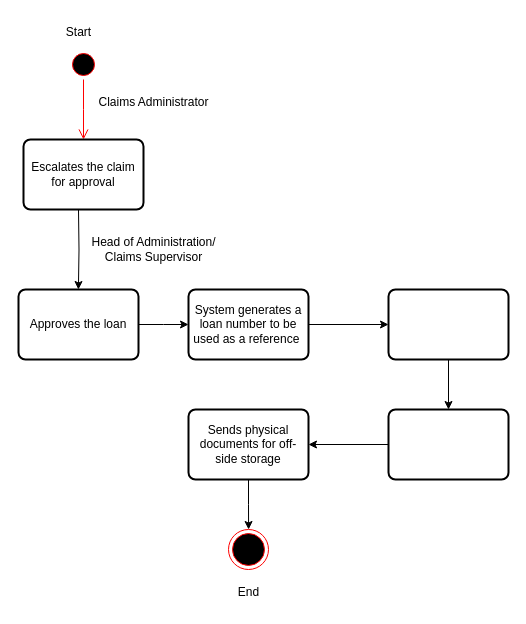
Some shapes in this 526 by 624 pixel diagram are drawn without their labels. Each missing label, with the centre of its shape:
Prepares a payment requisition using the loan reference number: (x=448, y=324)
Scans the physical documentation into the document management system: (x=448, y=444)
